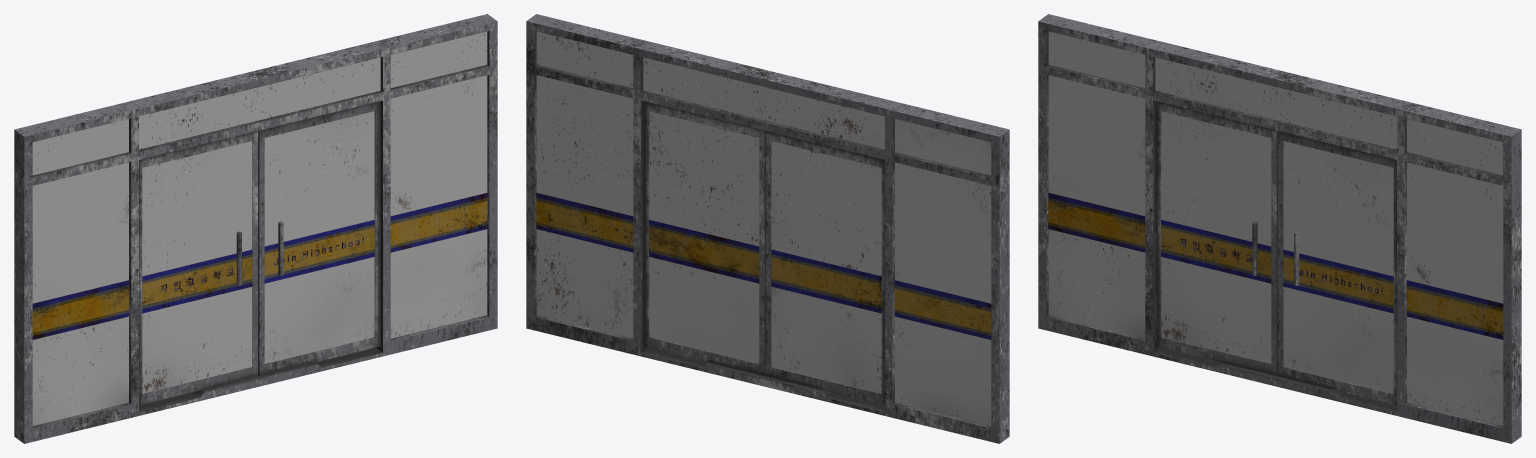
The model's file is M_Frontglassdoor.fbx.
3 views of the same model, side by side, from view 1: azimuth 30°, elevation 25°; view 2: azimuth 150°, elevation 25°; view 3: azimuth 330°, elevation 25° (orthographic).
Parts seen in each view (by area): view 1: frontglassdoor_base_GEO, frontglassdoorR_GEO, frontgalssdoorL_GEO; view 2: frontglassdoor_base_GEO, frontglassdoorR_GEO, frontgalssdoorL_GEO; view 3: frontglassdoor_base_GEO, frontgalssdoorL_GEO, frontglassdoorR_GEO.
Part boxes in pixels (box(x1,y1,x2,y2)): frontglassdoor_base_GEO: box(14, 14, 497, 443); frontglassdoorR_GEO: box(258, 101, 380, 375); frontgalssdoorL_GEO: box(139, 131, 258, 405); frontglassdoor_base_GEO: box(526, 14, 1009, 443); frontglassdoorR_GEO: box(643, 101, 765, 375); frontgalssdoorL_GEO: box(765, 131, 884, 405); frontglassdoor_base_GEO: box(1038, 14, 1521, 443); frontgalssdoorL_GEO: box(1155, 101, 1277, 375); frontglassdoorR_GEO: box(1277, 131, 1396, 405).
Bounding box in the file's own units: 155 × 95.83 × 5.92.
Materials: 3 (3 with a texture image).
